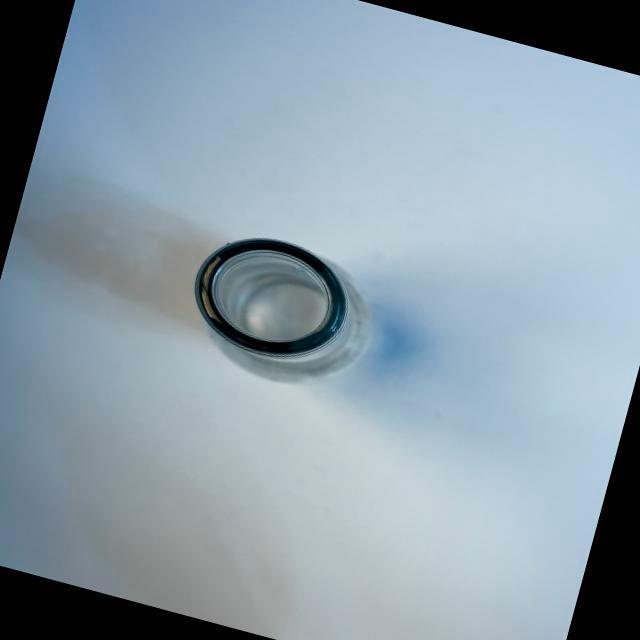glass: (150, 180, 448, 444)
